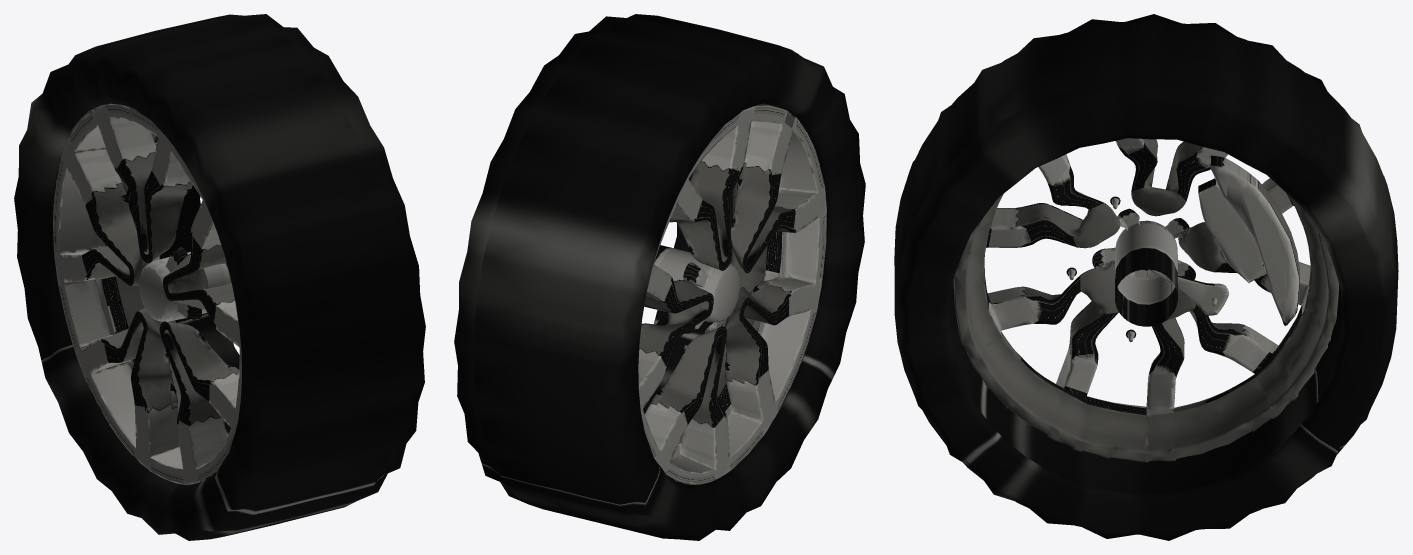
File: LlantaDD.obj
3 renders of one model, left to right at view 1: azimuth 30°, elevation 25°; view 2: azimuth 150°, elevation 25°; view 3: azimuth 270°, elevation 25°, orthographic.
Visible parts, largest first — view 1: Llanta_DD; view 2: Llanta_DD; view 3: Llanta_DD.
Boxes of the visible parts, <box> form: Llanta_DD: <box>14,14,425,540</box>; Llanta_DD: <box>454,14,865,540</box>; Llanta_DD: <box>894,14,1398,540</box>.
Bounding box in the file's own units: 7.79 × 20.68 × 20.68.
